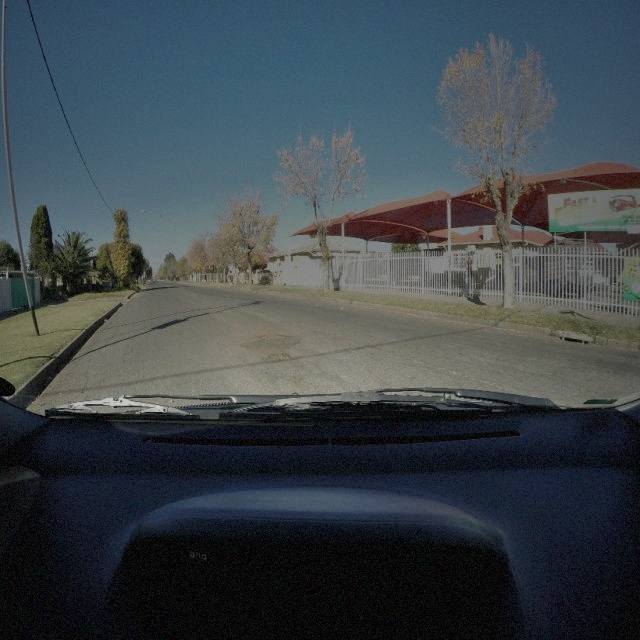pothole: (258, 330, 286, 343), (264, 353, 294, 362)
